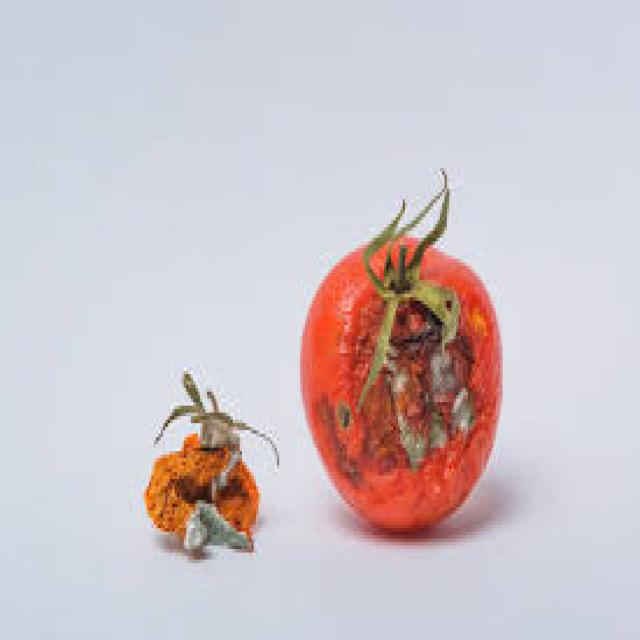organic waste: (298, 164, 500, 532), (140, 367, 279, 556)
